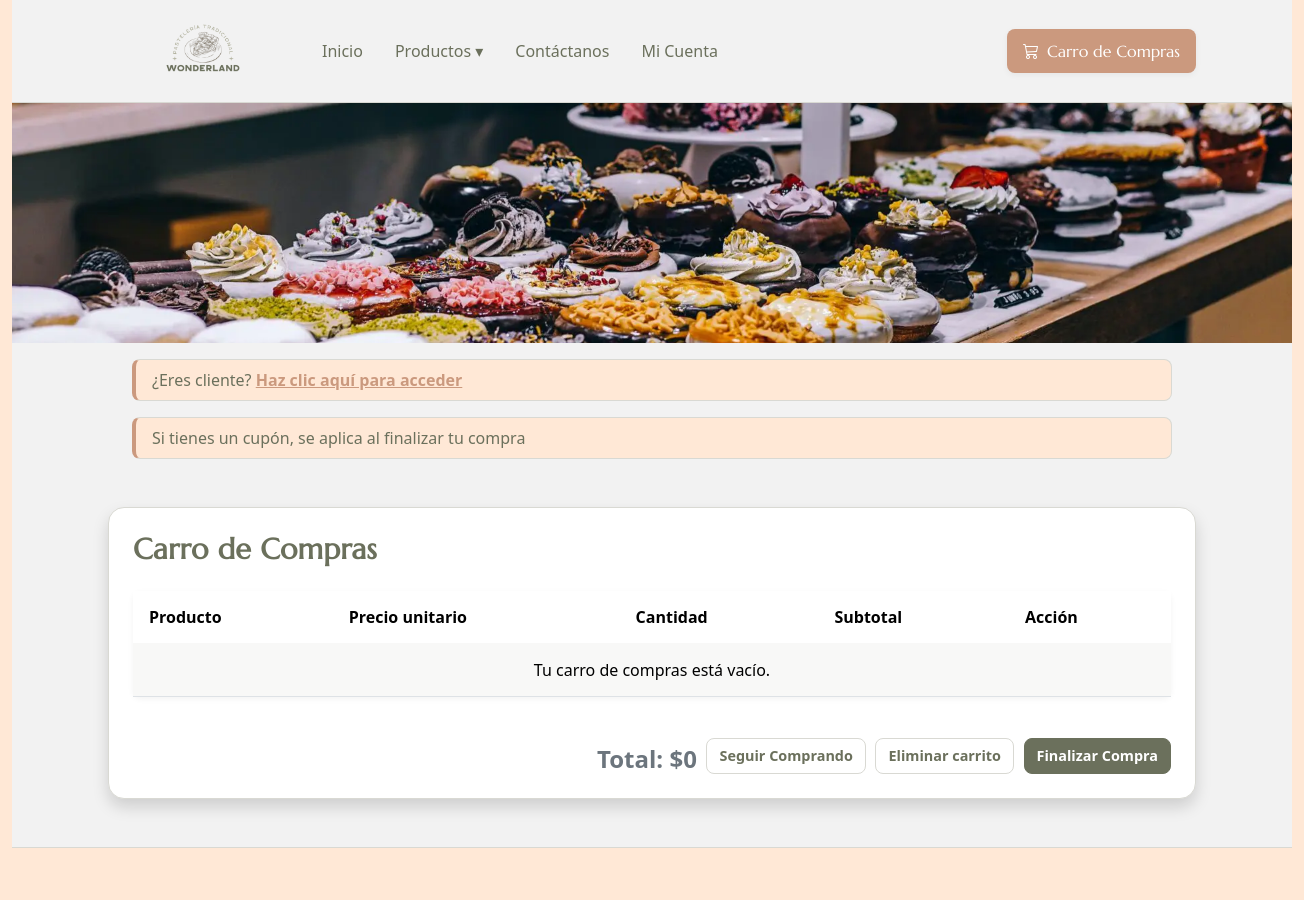
Carro.jsx › muestra alerta si el carrito ya está vacío
The image size is (1304, 900).
Click the button "Eliminar carrito" at [945, 756], box top-left (876, 738), bottom-right (1014, 774)
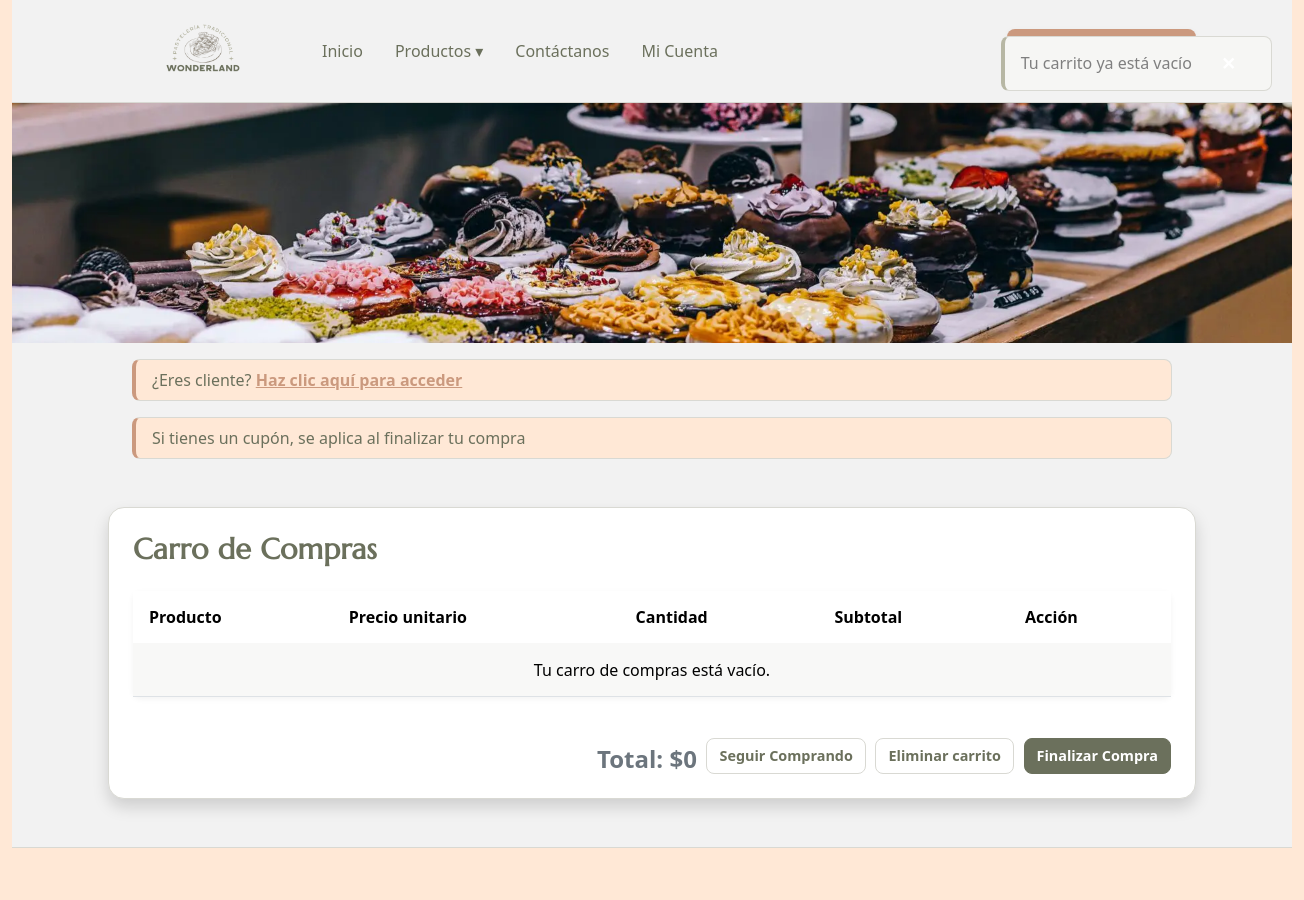
Now the text "Tu carrito ya está vacío" is shown, box top-left (1021, 51), bottom-right (1192, 75)
